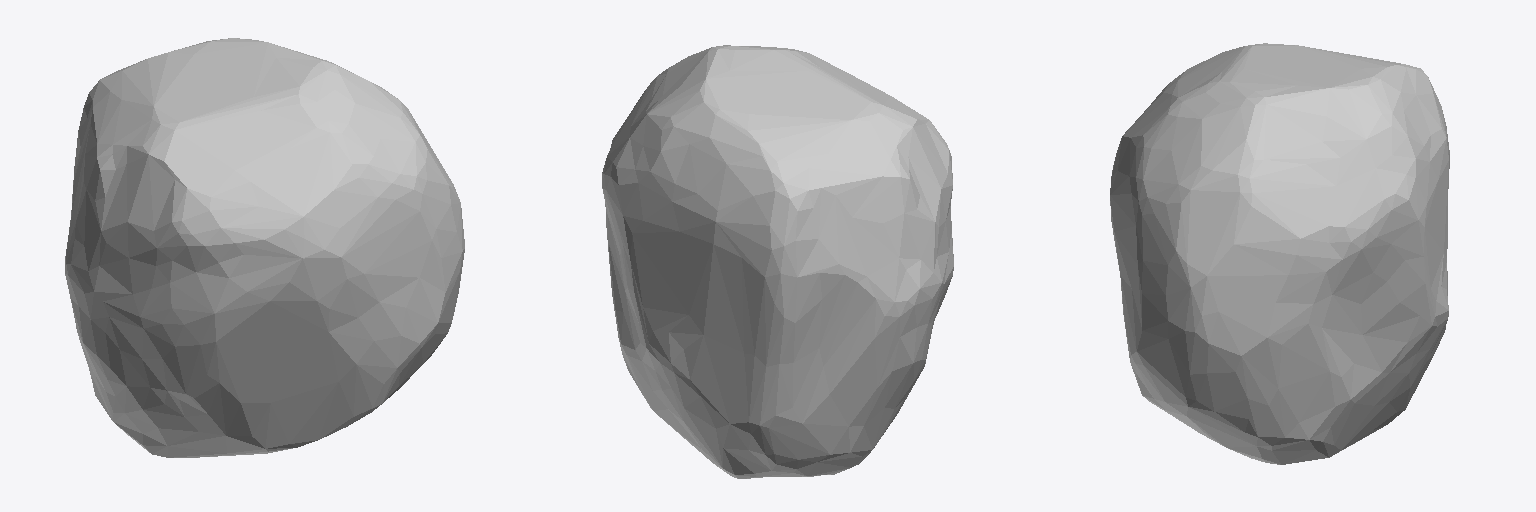
Rendered from Stone2.OBJ.
The picture shows the model from 3 angles: view 1: azimuth 30°, elevation 25°; view 2: azimuth 150°, elevation 25°; view 3: azimuth 270°, elevation 25°; orthographic projection.
Parts seen in each view (by area): view 1: Group62066; view 2: Group62066; view 3: Group62066.
Boxes of the visible parts, x1,y1,x2,y2 form: Group62066: [65, 38, 464, 457]; Group62066: [602, 45, 953, 478]; Group62066: [1110, 43, 1449, 464].
Bounding box in the file's own units: 1.7 × 1.81 × 1.49.